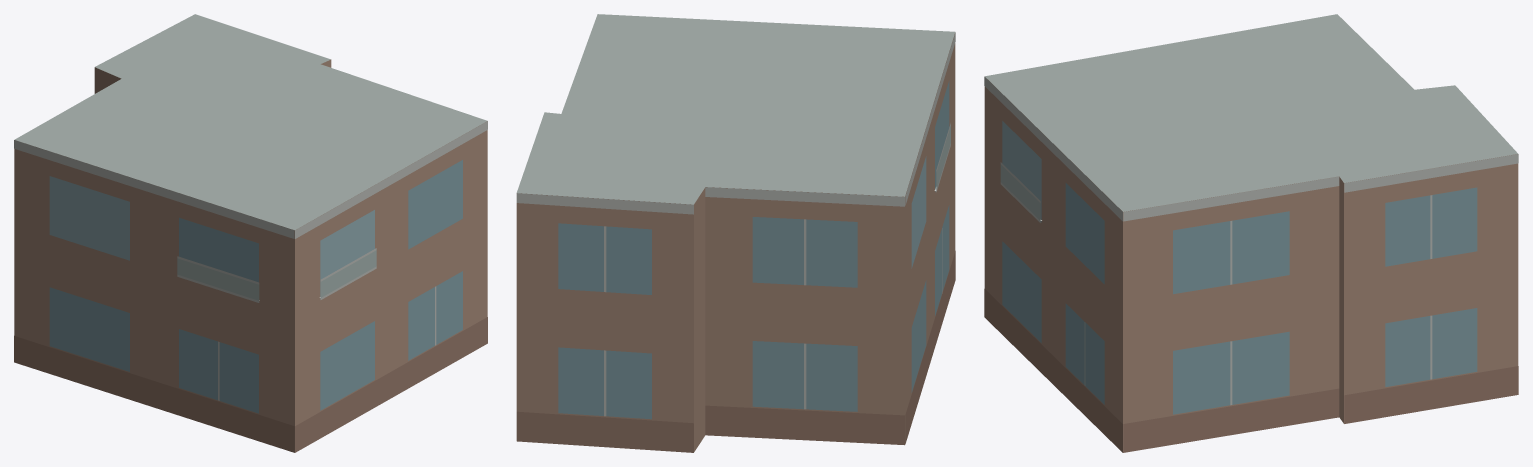
File: survey-upis-32710981.glb
The picture shows the model from 3 angles, left to right: view 1: azimuth 30°, elevation 25°; view 2: azimuth 150°, elevation 25°; view 3: azimuth 270°, elevation 25°; orthographic projection. The views are drawn at different scales.
Visible parts, largest first — view 1: survey-upis-32710981.tmp; view 2: survey-upis-32710981.tmp; view 3: survey-upis-32710981.tmp.
Part boxes in pixels (<box>): survey-upis-32710981.tmp: <box>14,14,487,452</box>; survey-upis-32710981.tmp: <box>516,14,955,452</box>; survey-upis-32710981.tmp: <box>984,14,1518,452</box>.
Size of the model in its own units: 10.76 by 6.1 by 12.26.
